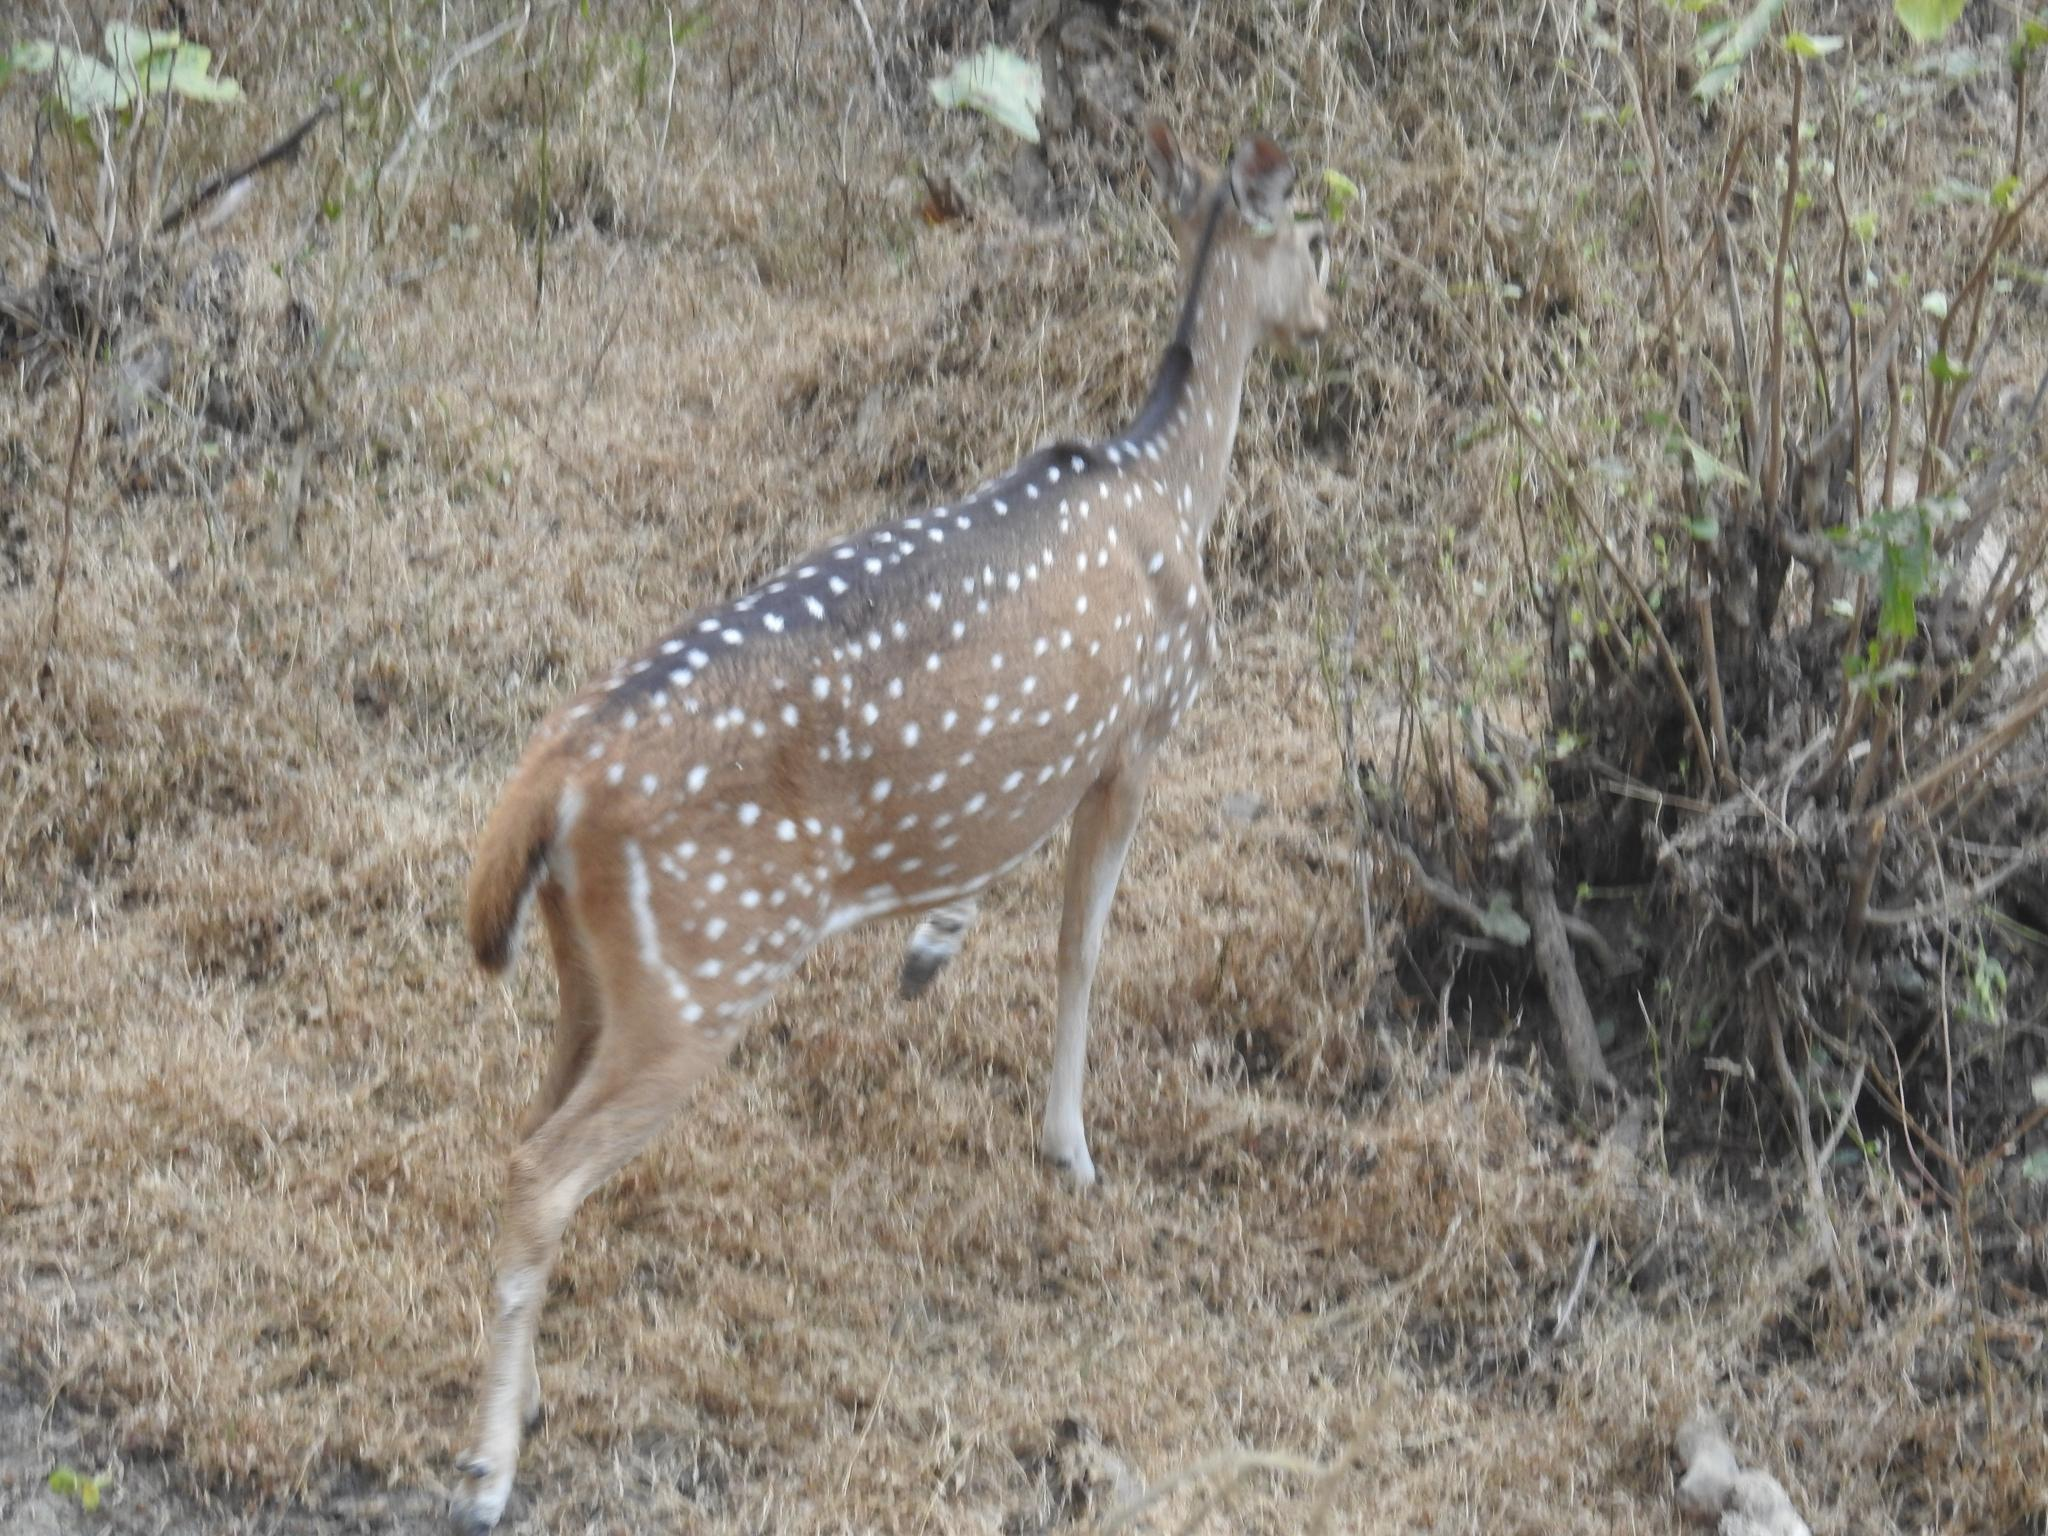Deer: (455, 121, 1326, 1530)
